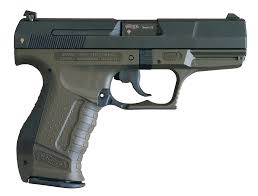Arma Real: (13, 10, 251, 189)
